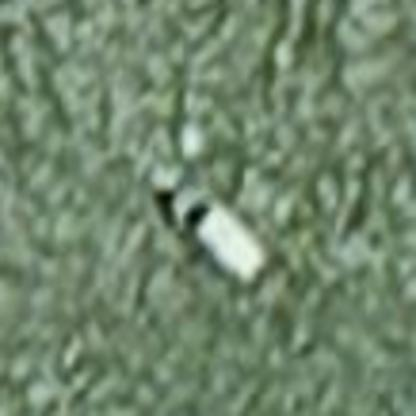ship: (148, 165, 278, 291)
